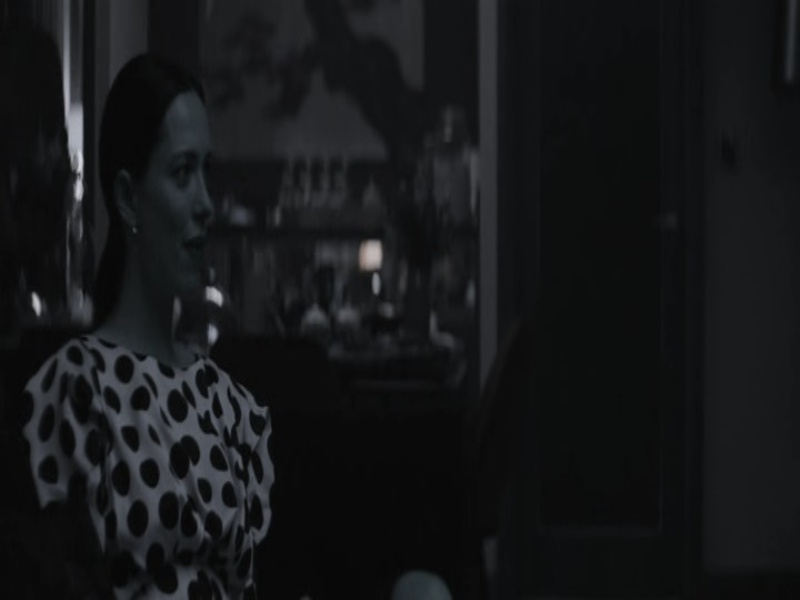TsisyArotava: (97, 62, 227, 306)
